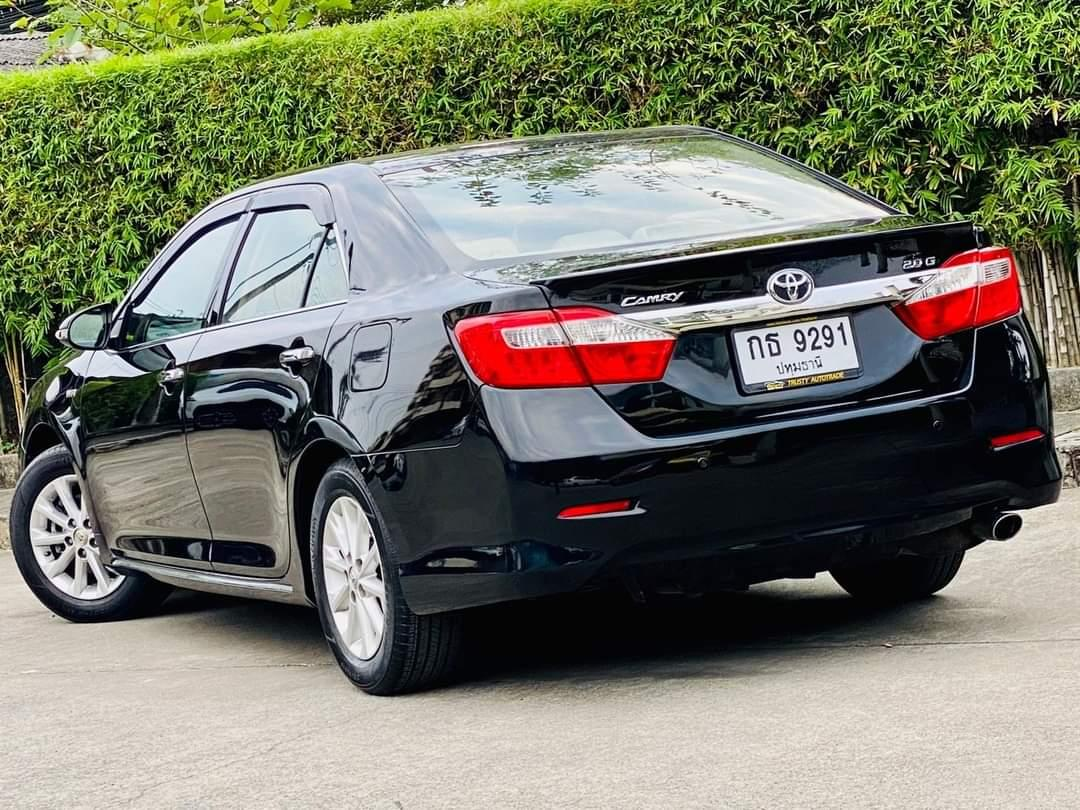license-plate: (725, 309, 863, 399)
